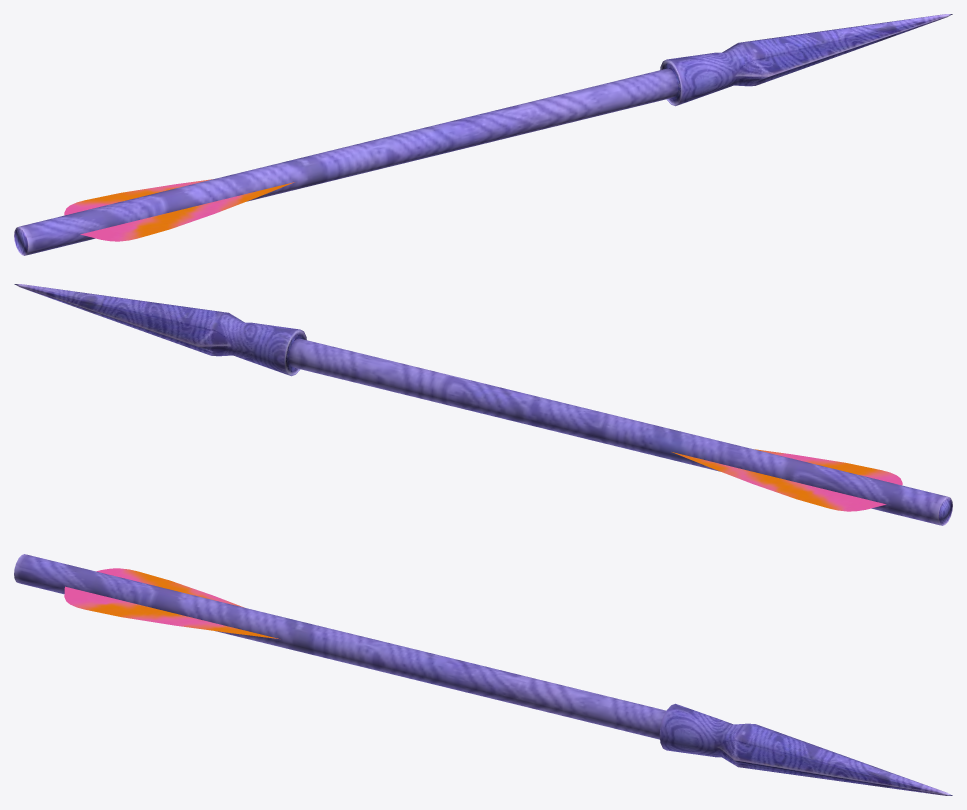
The picture shows the model from 3 angles, top to bottom: view 1: azimuth 30°, elevation 25°; view 2: azimuth 150°, elevation 25°; view 3: azimuth 330°, elevation 25°; orthographic projection.
Visible parts, largest first — view 1: SM_CrossbowBolt_Blurite_01_LOD0; view 2: SM_CrossbowBolt_Blurite_01_LOD0; view 3: SM_CrossbowBolt_Blurite_01_LOD0.
Boxes of the visible parts, box(x1,y1,x2,y2) form: SM_CrossbowBolt_Blurite_01_LOD0: box(14, 14, 952, 255); SM_CrossbowBolt_Blurite_01_LOD0: box(14, 284, 952, 525); SM_CrossbowBolt_Blurite_01_LOD0: box(14, 554, 952, 795).
Size of the model in its own units: 0.4564 by 0.0205 by 0.0445.
Materials: 1 (1 with a texture image).
